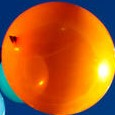Balloon: (1, 1, 115, 115)
